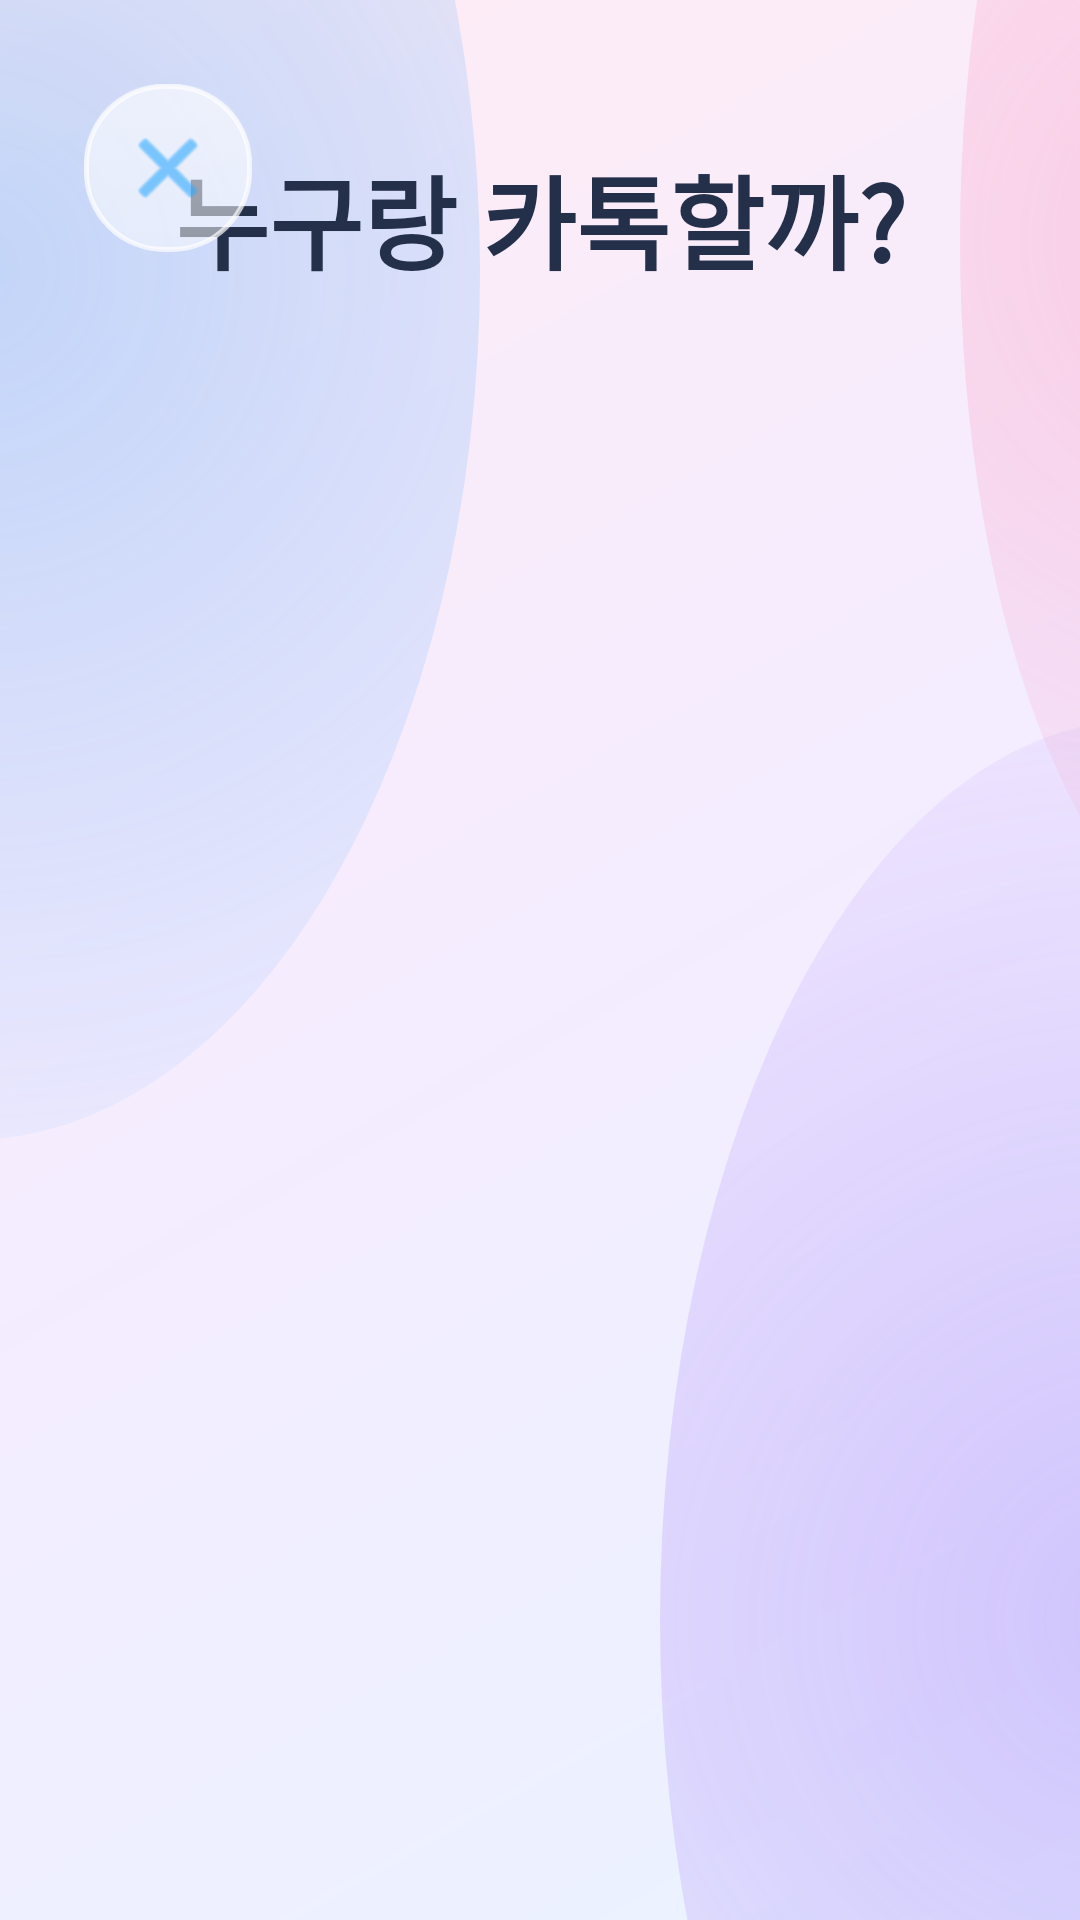

Named icons in this screenshot (1080w x 1920h) and their centers, (x=x, y=y):
종료: (x=168, y=168)
